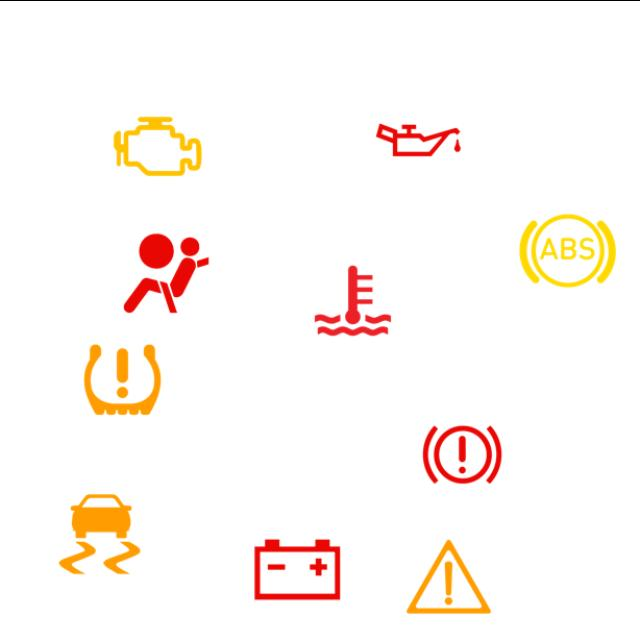Anti Lock Braking System: (514, 196, 620, 302)
Braking System Issue: (410, 401, 516, 507)
Charging System Issue: (244, 516, 350, 622)
Check Engine: (105, 92, 211, 198)
Electronic Stability Problem -ESP-: (46, 480, 152, 586)
Engine Overheating Warning Light: (300, 246, 406, 352)
Low Engine Oil Warning Light: (366, 86, 472, 192)
Low Tire Pressure Warning Light: (70, 326, 176, 432)
Master warning light: (396, 523, 502, 629)
SRS-Airbag: (113, 220, 220, 326)
